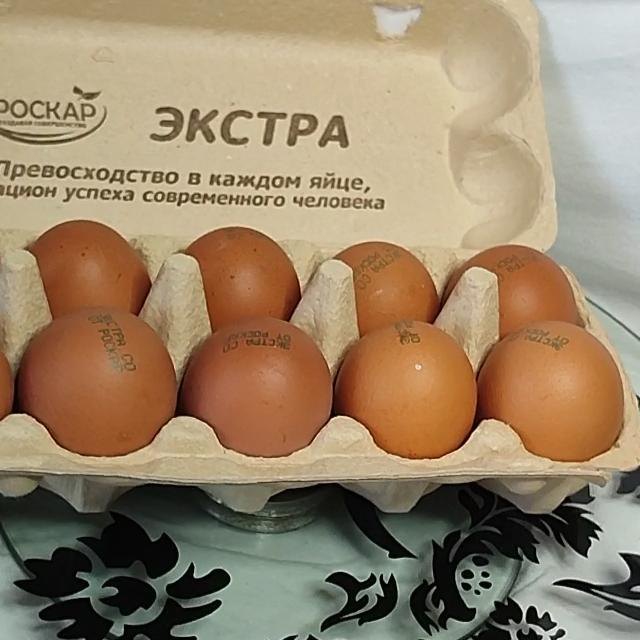egg: (0, 0, 640, 509)
